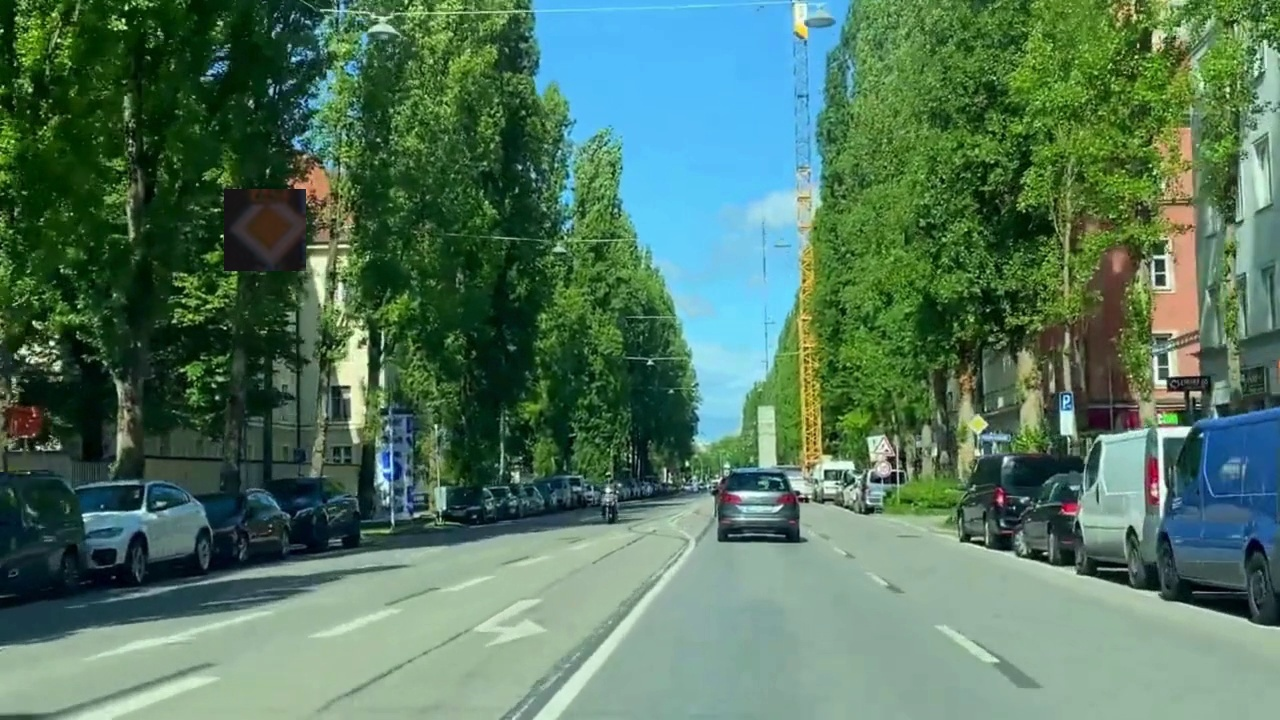Priority road: (224, 189, 306, 271)
